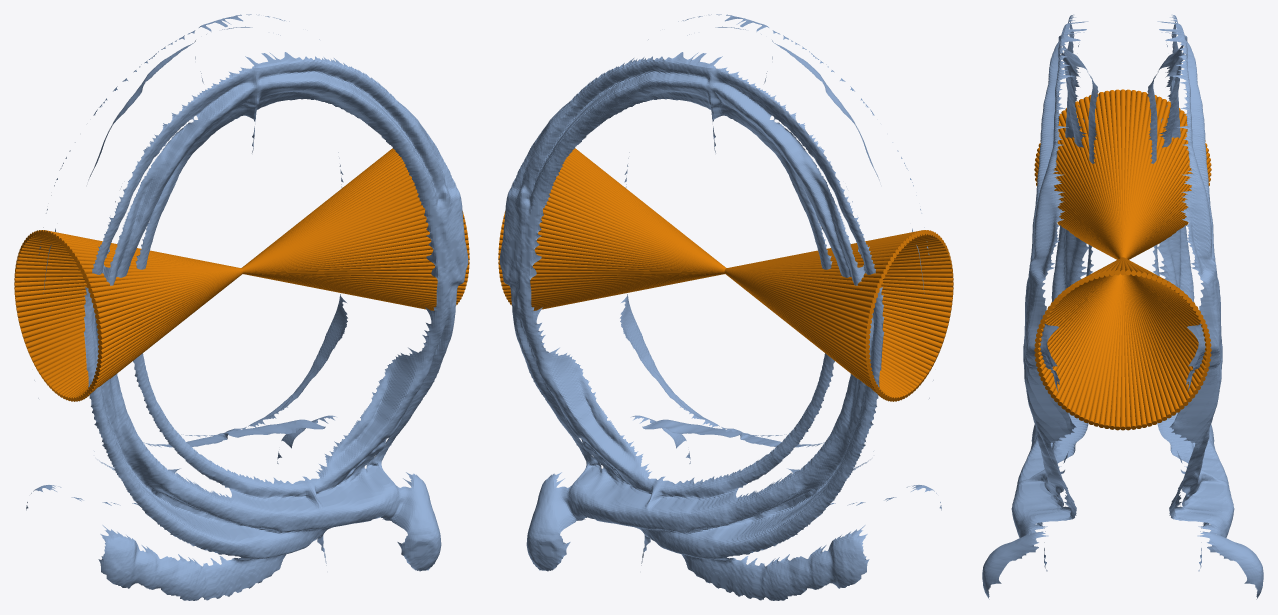
File: A20023617_6145-37-538-8436_DigitalTwin.glb
The picture shows the model from 3 angles, left to right: view 1: azimuth 30°, elevation 25°; view 2: azimuth 150°, elevation 25°; view 3: azimuth 270°, elevation 25°; orthographic projection.
Visible parts, largest first — view 1: world; view 2: world; view 3: world.
Boxes of the visible parts, x1,y1,x2,y2 form: world: [14, 14, 469, 600]; world: [498, 14, 953, 600]; world: [982, 14, 1263, 599].
Size of the model in its own units: 312 by 416 by 204.
